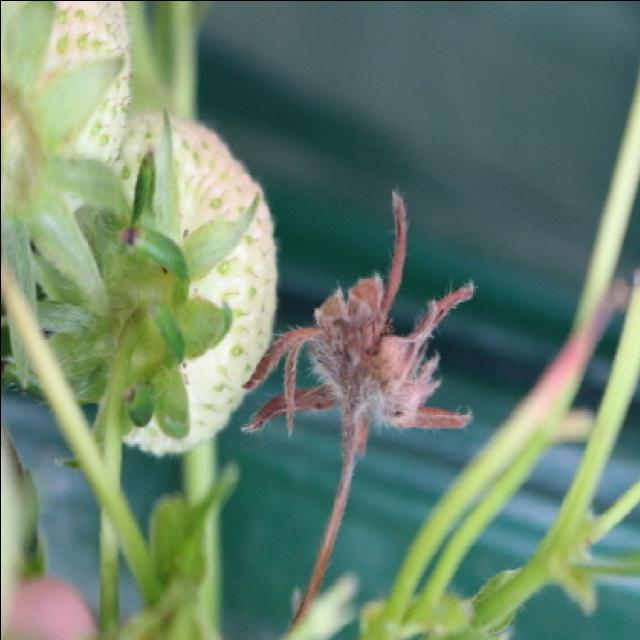Gray Mold: (240, 187, 476, 474)
